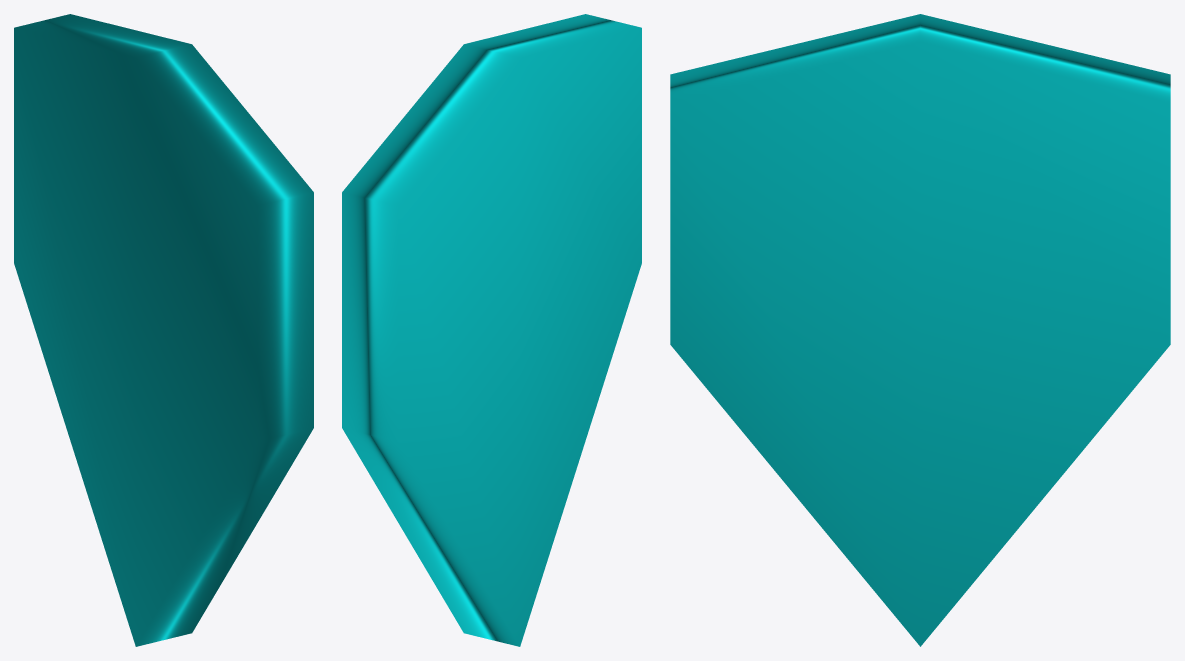
The model's file is shieldPref.fbx.
The picture shows the model from 3 angles, left to right: view 1: azimuth 30°, elevation 25°; view 2: azimuth 150°, elevation 25°; view 3: azimuth 270°, elevation 25°; orthographic projection. The views are drawn at different scales.
Visible parts, largest first — view 1: Cube; view 2: Cube; view 3: Cube.
Boxes of the visible parts, <box> form: Cube: <box>14,14,313,646</box>; Cube: <box>342,14,641,646</box>; Cube: <box>670,14,1170,646</box>.
Size of the model in its own units: 1 by 10 by 7.5.
